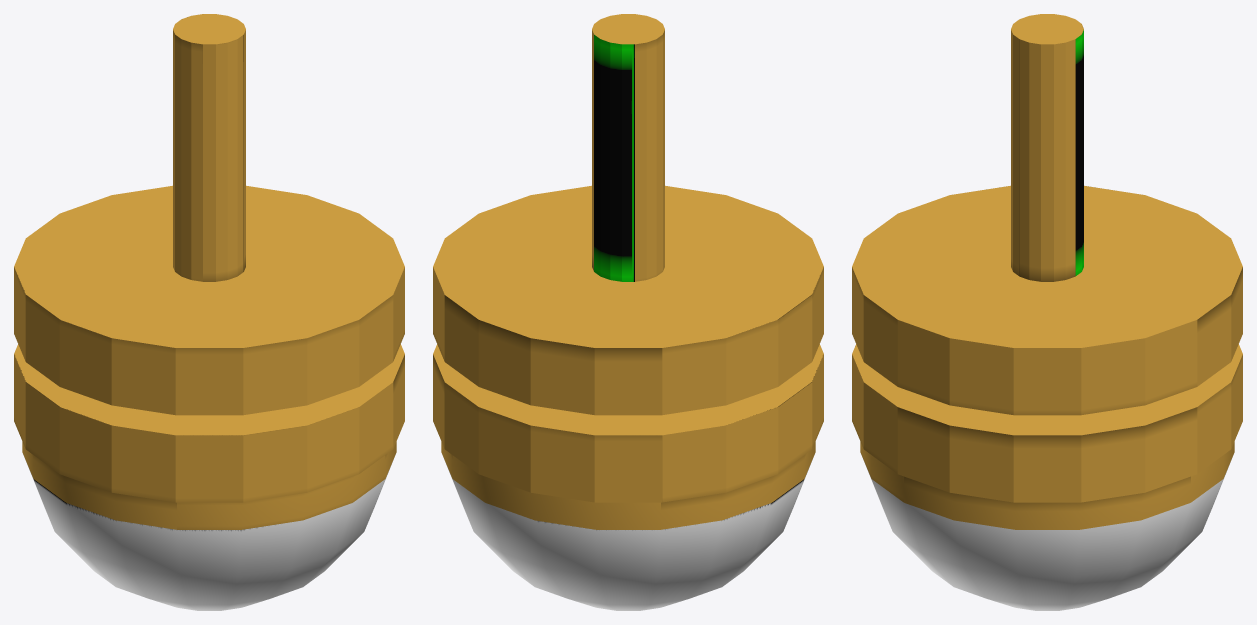
File: light.FBX
The picture shows the model from 3 angles, left to right: view 1: azimuth 30°, elevation 25°; view 2: azimuth 150°, elevation 25°; view 3: azimuth 270°, elevation 25°; orthographic projection.
Visible parts, largest first — view 1: light; view 2: light; view 3: light.
Boxes of the visible parts, left/top/right/bottom form: light: left=14, top=14, right=404, bottom=610; light: left=433, top=14, right=823, bottom=610; light: left=852, top=14, right=1242, bottom=610.
Size of the model in its own units: 17.24 by 27.92 by 17.5.
1 material, 1 textured.
